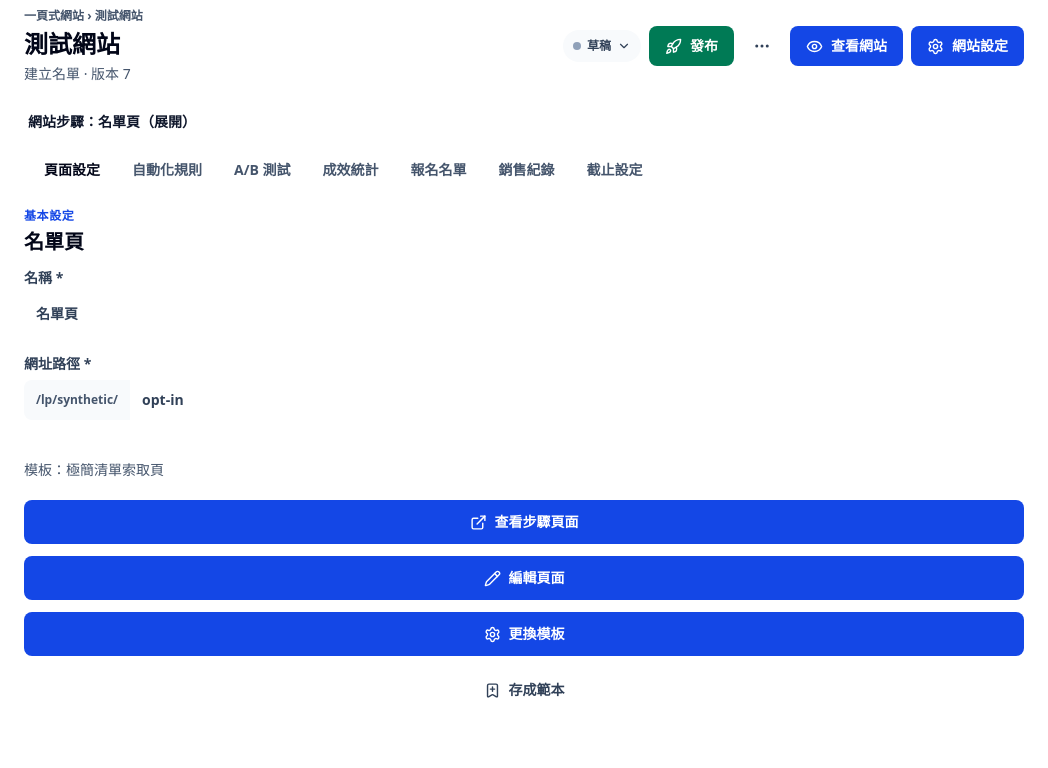
Test: management page owns publishing › shows the diagnosis a refused publish carries, such as the independent publication limit
Click the button "發布" at {"x": 692, "y": 46}, box [649, 26, 734, 66]
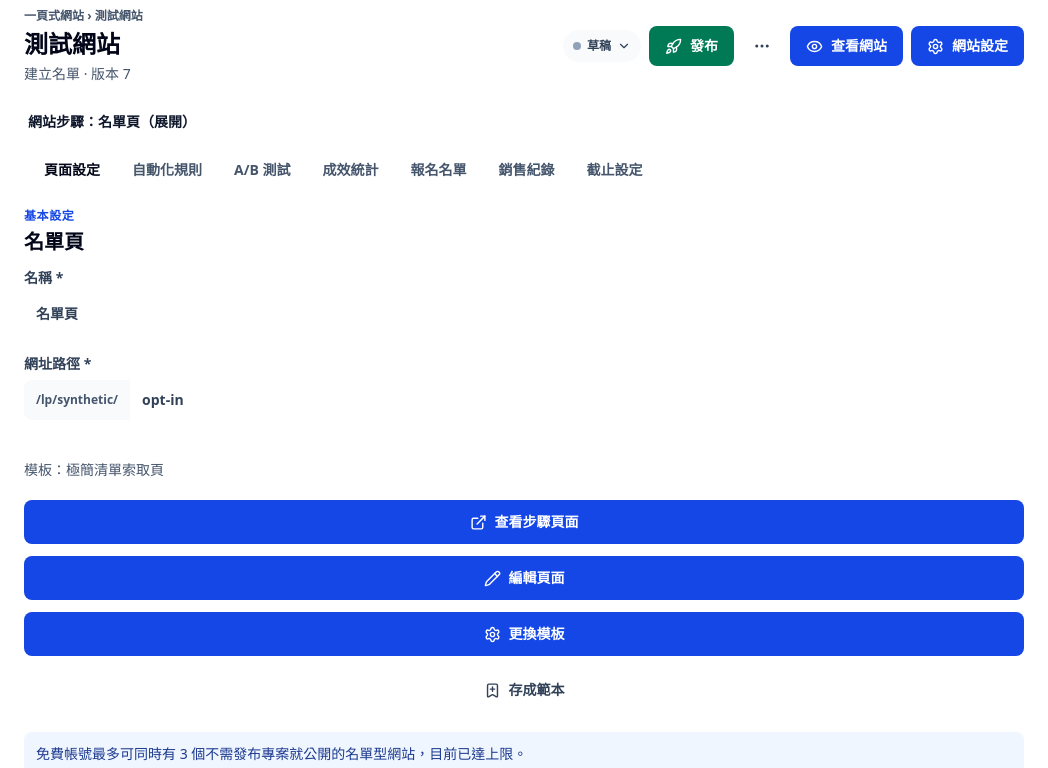
Click the button "草稿" at {"x": 602, "y": 46}, box [563, 30, 641, 62]
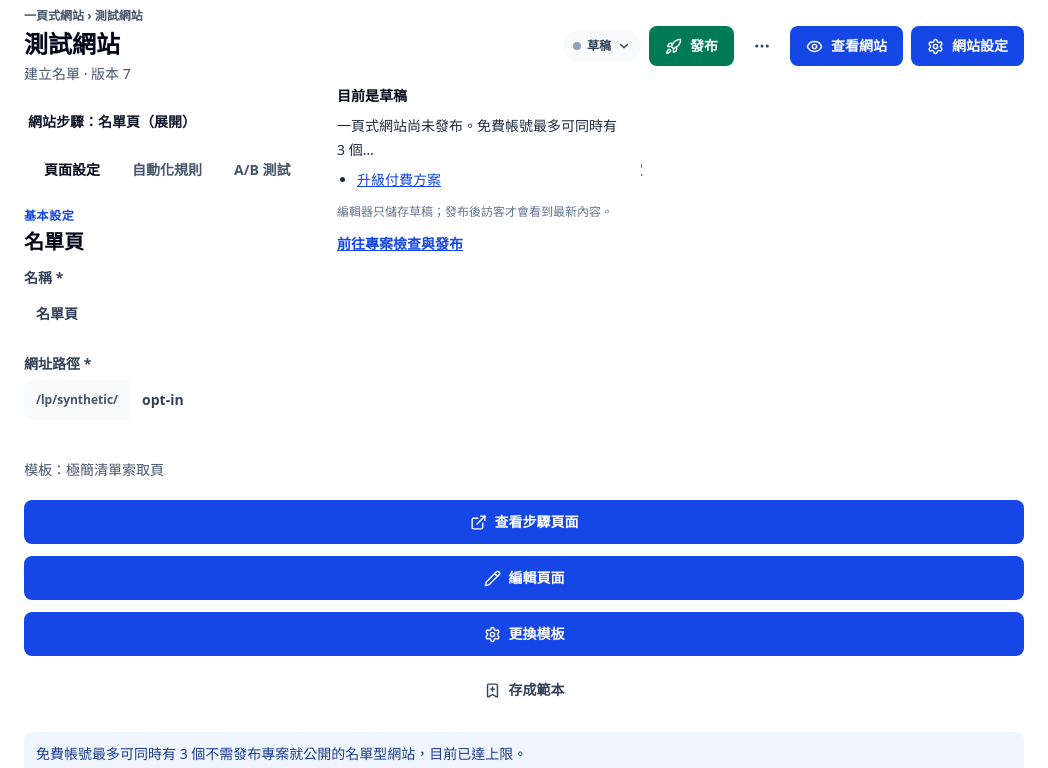
Expected: the button "發布" is shown, [649, 26, 734, 66]
Expected: the element named "公開網址狀態" shows "一頁式網站尚未發布。免費帳號最多可同時有 3 個", [337, 116, 617, 159]
Expected: the link to "/billing/plans" reads "升級付費方案", [357, 170, 441, 189]
